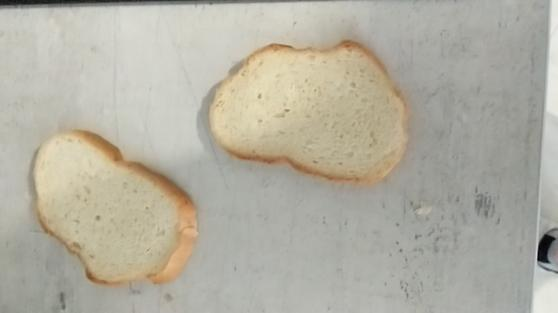white_bread: (203, 35, 415, 188), (29, 126, 203, 292)
